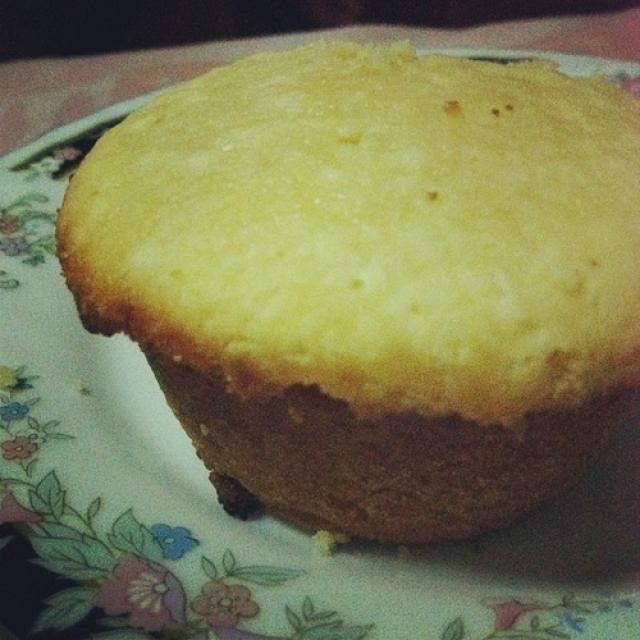炸货点心: (47, 28, 635, 581)
面包点心: (47, 28, 635, 581)
